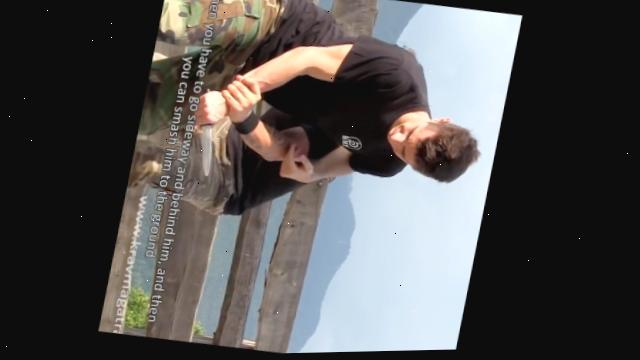pocket-knife: (178, 81, 232, 182)
